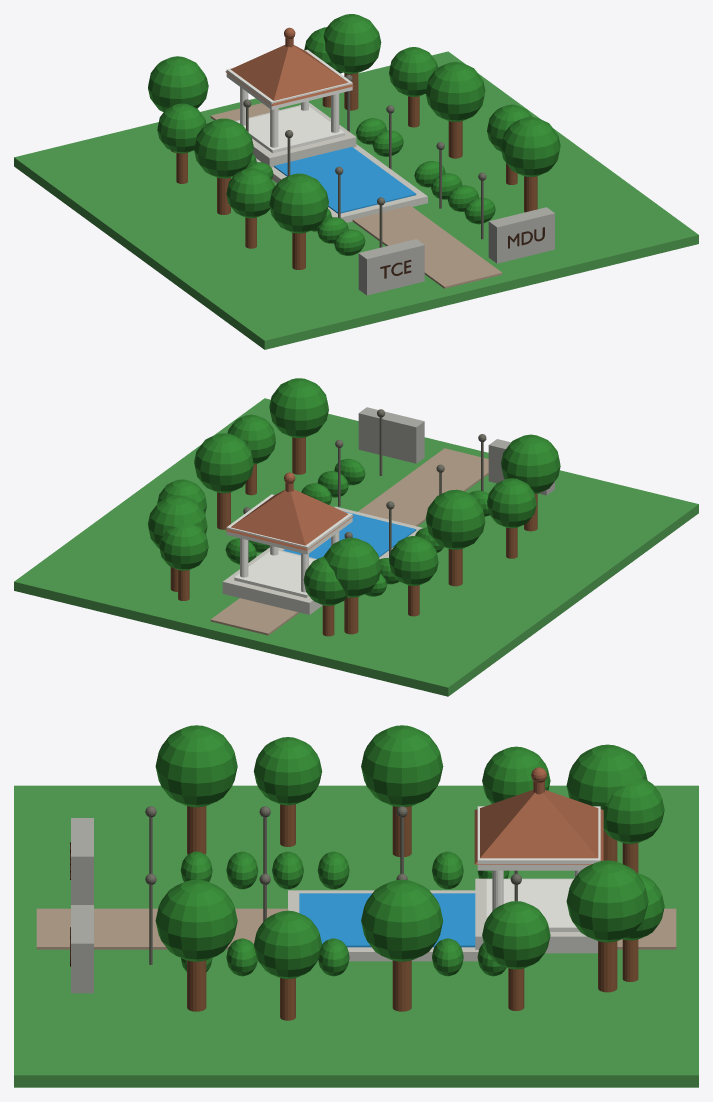
File: building.glb
3 renders of one model, top to bottom at view 1: azimuth 30°, elevation 25°; view 2: azimuth 150°, elevation 25°; view 3: azimuth 270°, elevation 25°, orthographic. The views are drawn at different scales.
Parts seen in each view (by area): view 1: Ground, Central_Walkway, Water, Pavilion_Roof, TCE_Sign, MDU_Sign, Tree_Leaves, Tree_Leaves.005, Tree_Leaves.007, Tree_Leaves.002, Tree_Leaves.009, Pavilion_Floor (+18 smaller); view 2: Ground, Central_Walkway, Pavilion_Roof, MDU_Sign, Tree_Leaves.005, Tree_Leaves.007, Tree_Leaves.002, Tree_Leaves, Tree_Leaves.004, Pavilion_Floor, Tree_Leaves.001, Tree_Leaves.003 (+15 smaller); view 3: Ground, Pavilion_Roof, Central_Walkway, Tree_Leaves, Tree_Leaves.005, Tree_Leaves.007, Tree_Leaves.002, Tree_Leaves.009, Water, Tree_Leaves.008, Tree_Leaves.001, Tree_Leaves.006 (+27 smaller).
Part boxes in pixels (bbox=[...]): Ground: bbox=[14, 51, 698, 349]; Central_Walkway: bbox=[210, 103, 502, 288]; Water: bbox=[274, 147, 416, 213]; Pavilion_Roof: bbox=[225, 45, 353, 106]; TCE_Sign: bbox=[358, 239, 424, 295]; MDU_Sign: bbox=[488, 207, 554, 263]; Tree_Leaves: bbox=[269, 173, 328, 233]; Tree_Leaves.005: bbox=[501, 117, 560, 176]; Tree_Leaves.007: bbox=[425, 62, 485, 121]; Tree_Leaves.002: bbox=[194, 118, 253, 178]; Tree_Leaves.009: bbox=[323, 14, 381, 73]; Pavilion_Floor: bbox=[236, 106, 344, 153]; Ground: bbox=[14, 398, 698, 696]; Central_Walkway: bbox=[210, 448, 488, 635]; Pavilion_Roof: bbox=[225, 489, 353, 550]; MDU_Sign: bbox=[358, 407, 424, 463]; Tree_Leaves.005: bbox=[269, 378, 328, 438]; Tree_Leaves.007: bbox=[194, 433, 253, 493]; Tree_Leaves.002: bbox=[425, 489, 485, 549]; Tree_Leaves: bbox=[501, 434, 560, 494]; Tree_Leaves.004: bbox=[323, 537, 381, 597]; Pavilion_Floor: bbox=[234, 550, 315, 597]; Tree_Leaves.001: bbox=[487, 478, 536, 528]; Tree_Leaves.003: bbox=[389, 536, 438, 585]; Ground: bbox=[14, 785, 698, 1087]; Pavilion_Roof: bbox=[474, 790, 603, 864]; Central_Walkway: bbox=[36, 908, 676, 949]; Tree_Leaves: bbox=[155, 725, 237, 807]; Tree_Leaves.005: bbox=[155, 879, 237, 961]; Tree_Leaves.007: bbox=[361, 879, 443, 961]; Tree_Leaves.002: bbox=[361, 725, 443, 806]; Tree_Leaves.009: bbox=[566, 860, 648, 942]; Water: bbox=[299, 893, 475, 947]; Tree_Leaves.008: bbox=[482, 901, 550, 969]; Tree_Leaves.001: bbox=[253, 737, 322, 805]; Tree_Leaves.006: bbox=[254, 910, 321, 978].
Bounding box in the file's own units: 30 × 8.45 × 30.
